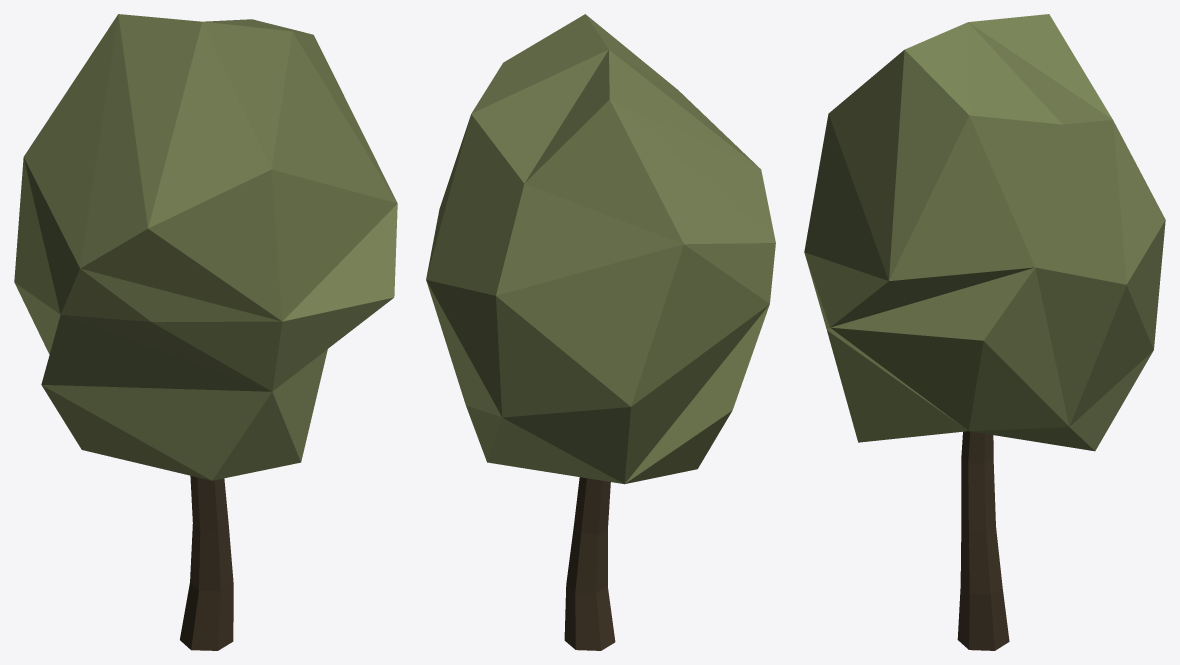
The model's file is Tree03.fbx.
3 views of the same model, side by side, from view 1: azimuth 30°, elevation 25°; view 2: azimuth 150°, elevation 25°; view 3: azimuth 270°, elevation 25° (orthographic). The views are drawn at different scales.
Visible parts, largest first — view 1: pCube19; view 2: pCube19; view 3: pCube19.
Part boxes in pixels (left/top/right/bottom): pCube19: left=14, top=14, right=397, bottom=650; pCube19: left=426, top=14, right=775, bottom=650; pCube19: left=804, top=14, right=1165, bottom=650.
Bounding box in the file's own units: 314 × 579 × 309.
